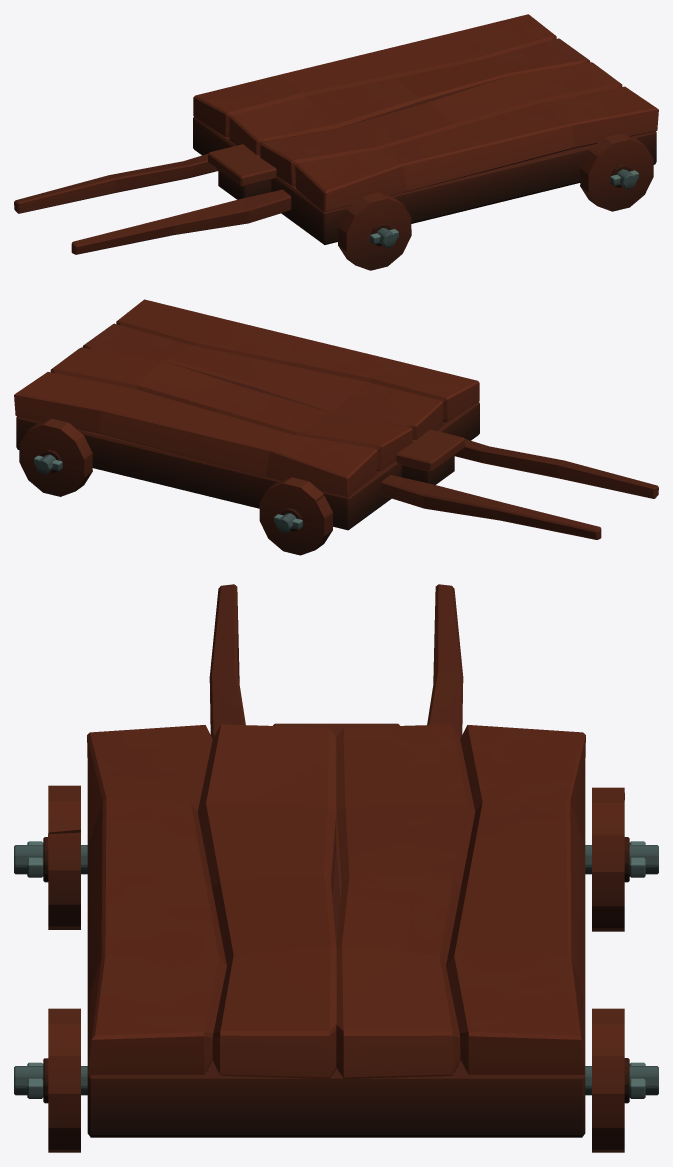
File: FBX_Cart.fbx
3 renders of one model, top to bottom at view 1: azimuth 30°, elevation 25°; view 2: azimuth 150°, elevation 25°; view 3: azimuth 270°, elevation 25°, orthographic. The views are drawn at different scales.
Parts seen in each view (by area): view 1: M_Cart; view 2: M_Cart; view 3: M_Cart.
Boxes of the visible parts, left/top/right/bottom form: M_Cart: left=14, top=14, right=658, bottom=270; M_Cart: left=14, top=299, right=658, bottom=555; M_Cart: left=14, top=584, right=658, bottom=1152.
Size of the model in its own units: 4.03 by 0.6143 by 2.16.
